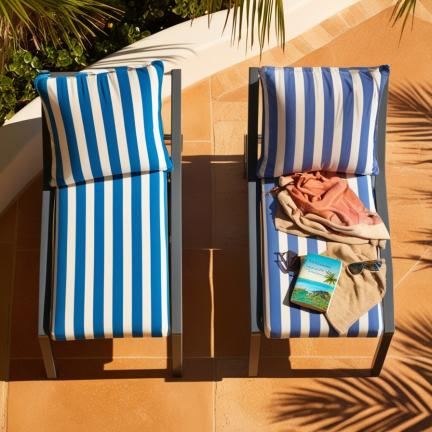empty chair: (35, 61, 181, 378)
occupied chair: (247, 65, 394, 376)
